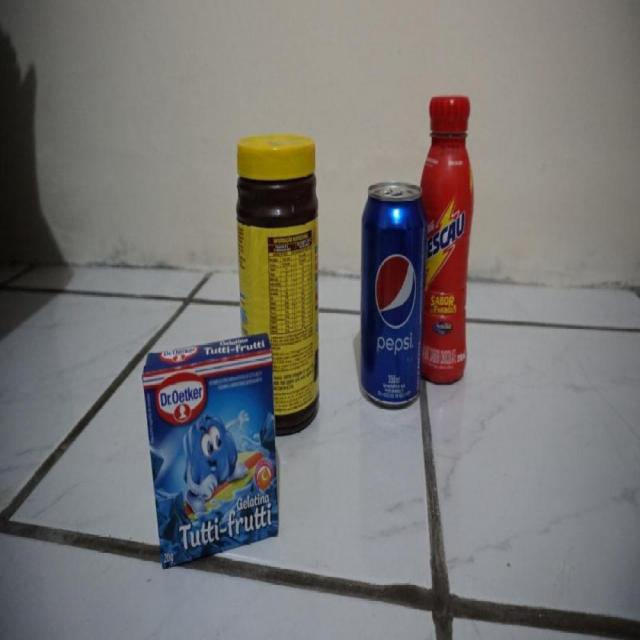ChocolateMilk: (424, 94, 474, 380)
ChocolatePowder: (233, 131, 322, 326)
Gelatine: (142, 333, 279, 560)
SodaCan: (359, 180, 424, 408)
